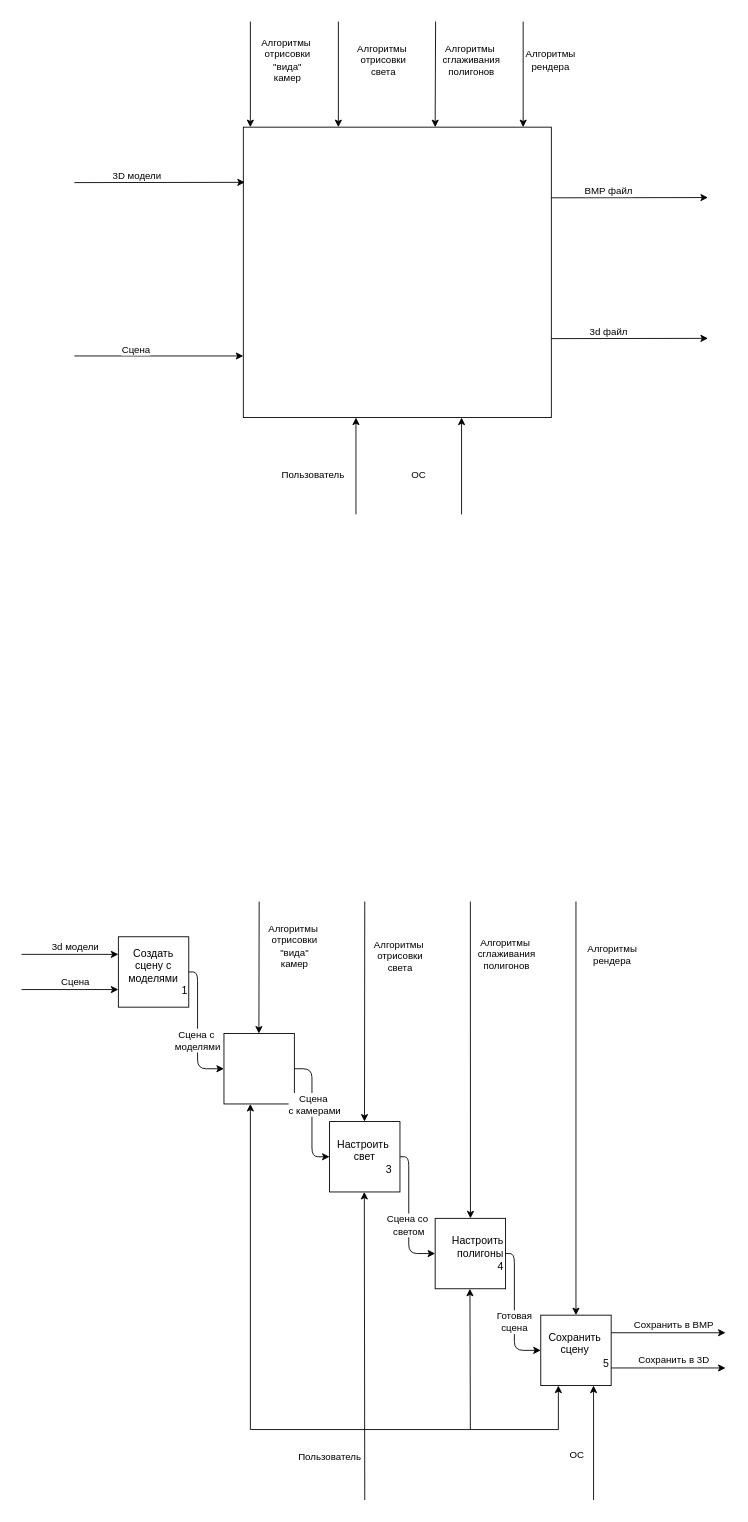
The diagram is 748 pixels wide and 1522 high, and some of its shapes have lost their labels. The centre of each missing label's shape, as x and y in pixels:
"Настроить камеры 2" belongs at (x=258, y=1068).
"Создать 3d модель" belongs at (x=396, y=272).
